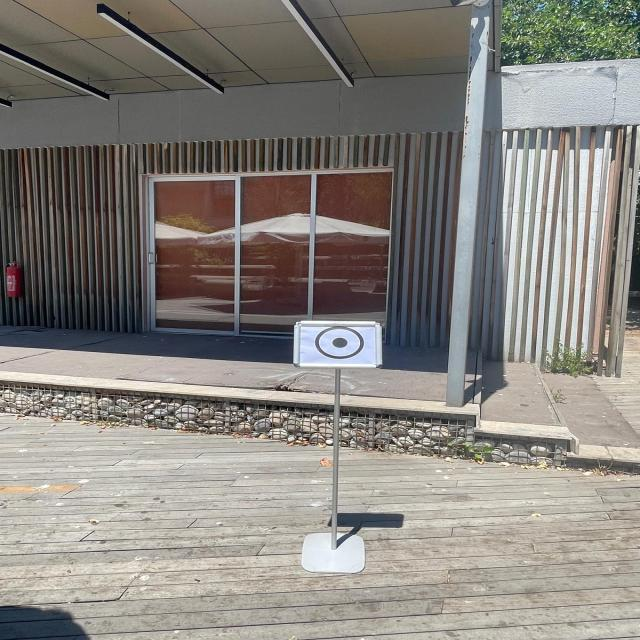Target: (288, 310, 391, 379)
inner: (326, 332, 354, 354)
